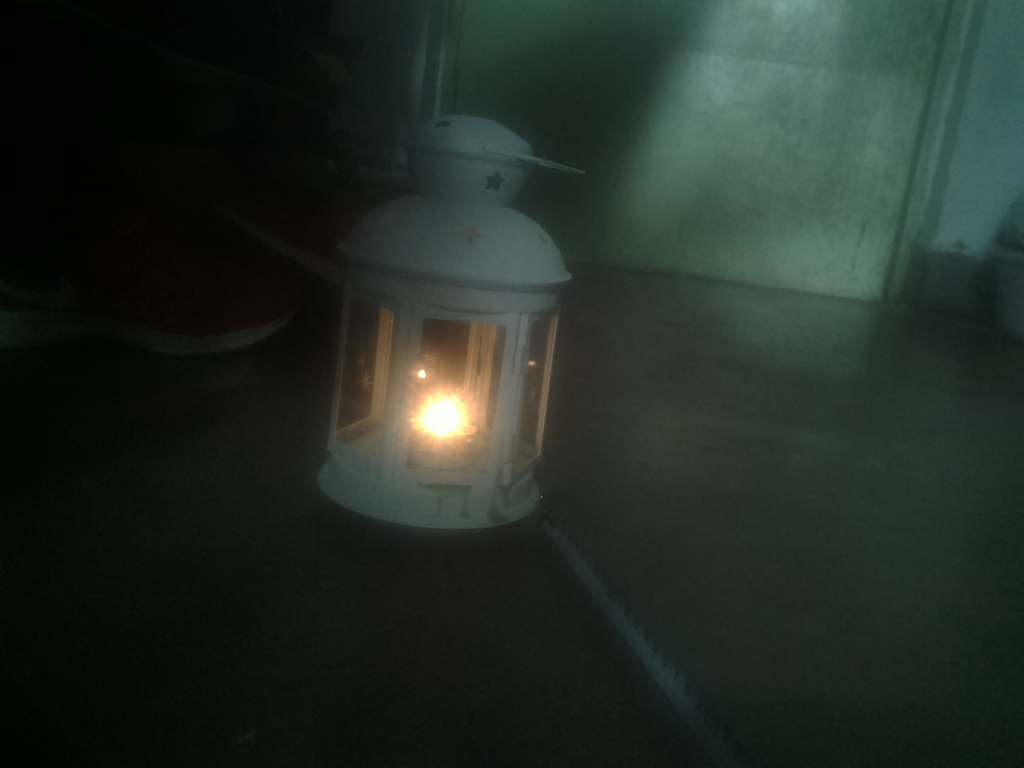fire: (395, 361, 512, 472)
